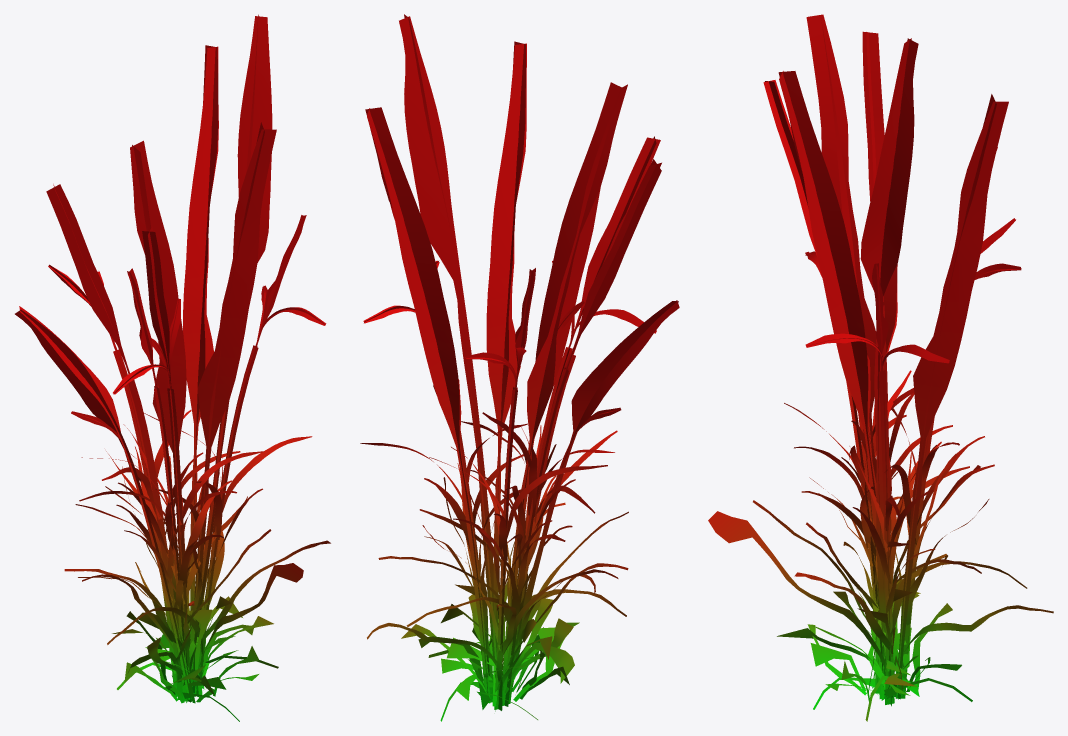
The model's file is slBjG_Var1_LOD0.fbx.
The picture shows the model from 3 angles, left to right: view 1: azimuth 30°, elevation 25°; view 2: azimuth 150°, elevation 25°; view 3: azimuth 270°, elevation 25°; orthographic projection. The views are drawn at different scales.
Visible parts, largest first — view 1: _9281_Var1_LOD0; view 2: _9281_Var1_LOD0; view 3: _9281_Var1_LOD0.
Part boxes in pixels (x1,y1,x2,y2): _9281_Var1_LOD0: (15, 14, 330, 721); _9281_Var1_LOD0: (360, 14, 679, 721); _9281_Var1_LOD0: (708, 14, 1053, 721).
Size of the model in its own units: 26.65 by 55.1 by 24.51.
